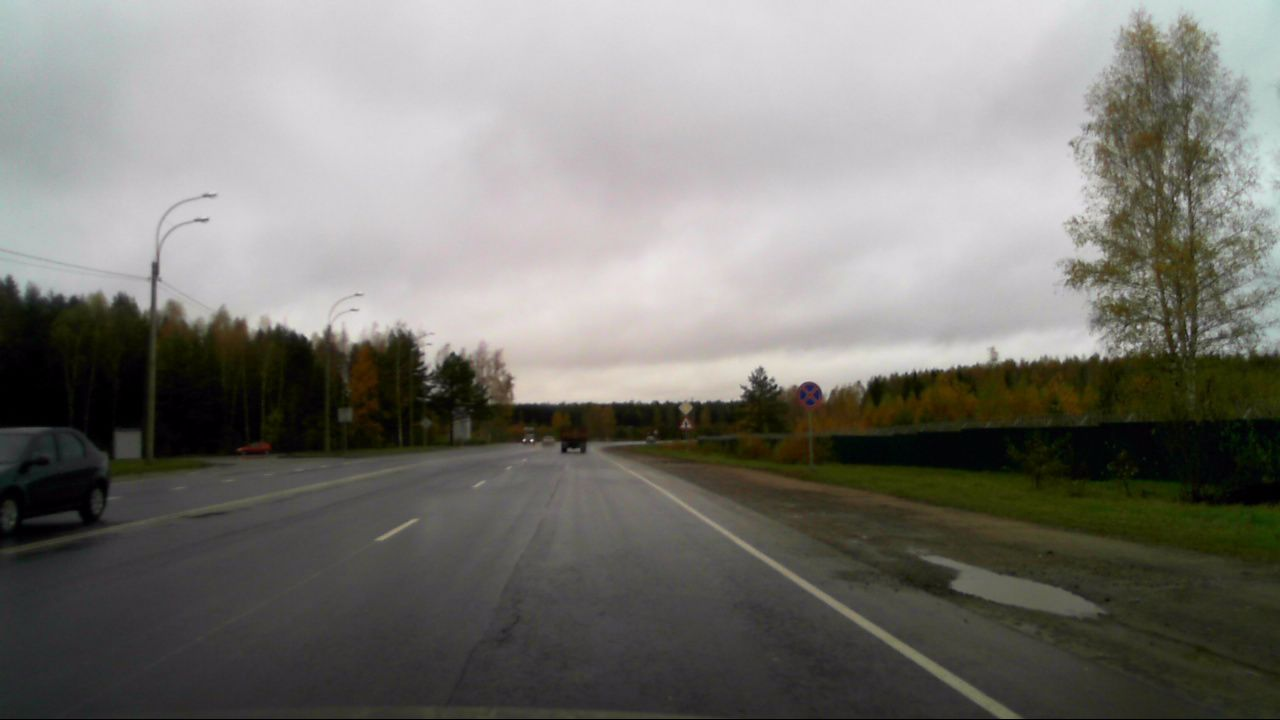No Parking: (794, 379, 824, 410)
